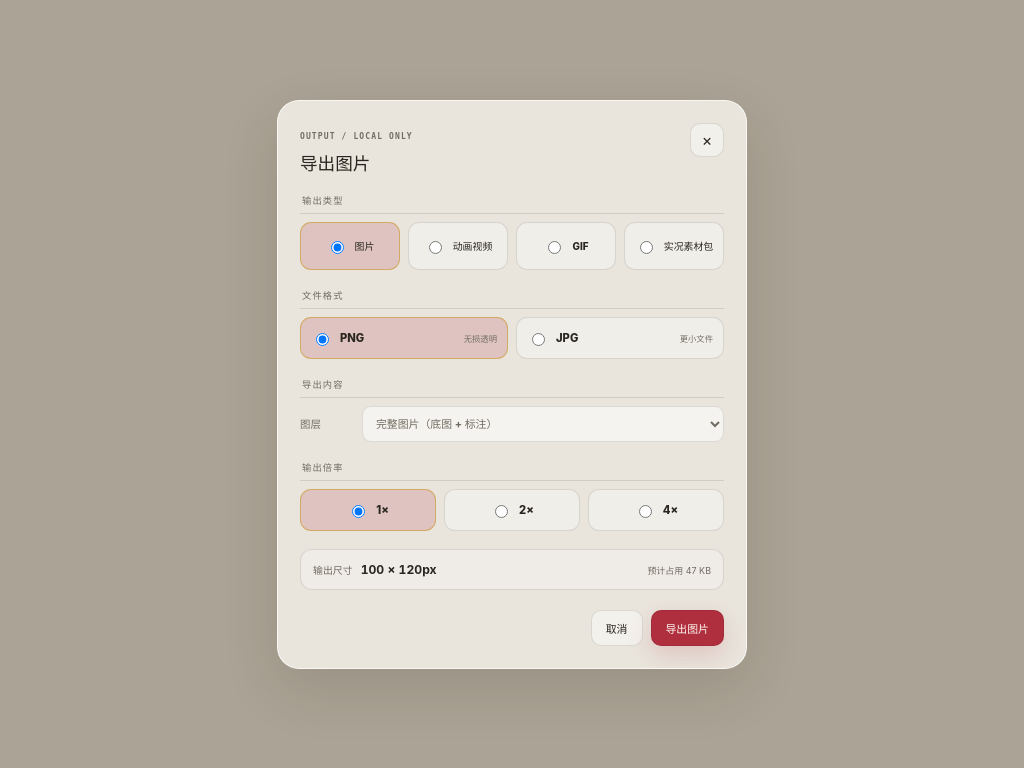
Scenario: ExportDialog export lifecycle › shows the capped motion dimensions instead of the static image scale
Click the radio button labelled "动画视频": (435, 247) [429,240,442,254]
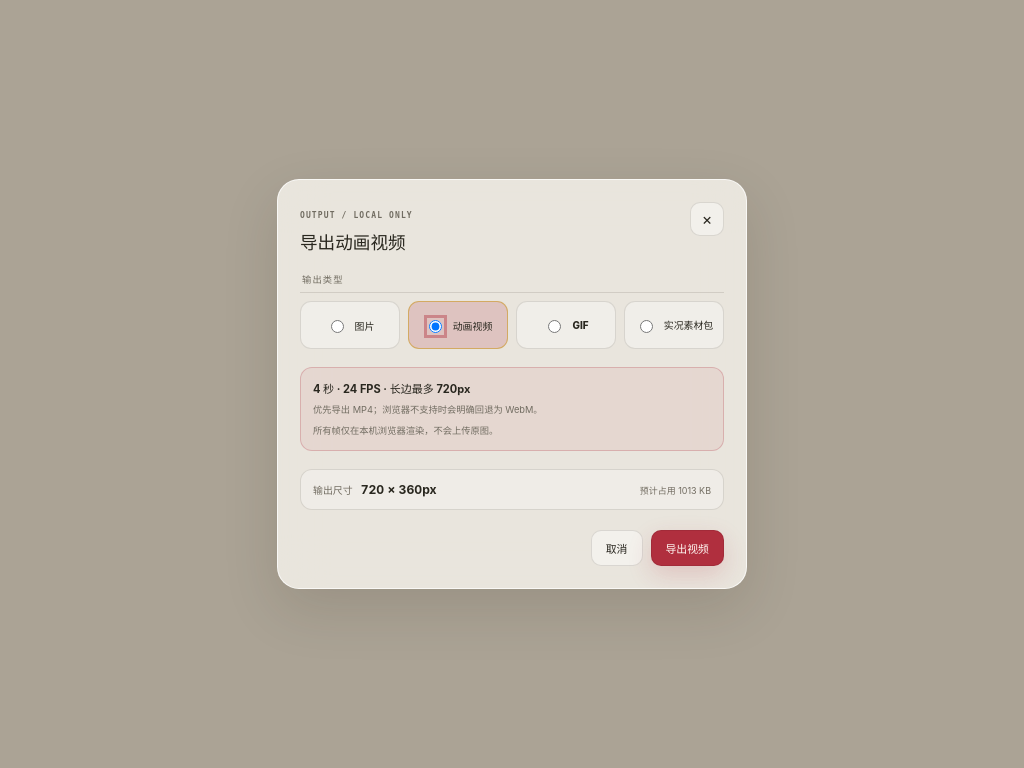
Now the text "720 × 360px" is shown, box [361,482,437,497]
Click the radio button labelled "GIF": (555, 327) [548,320,562,333]
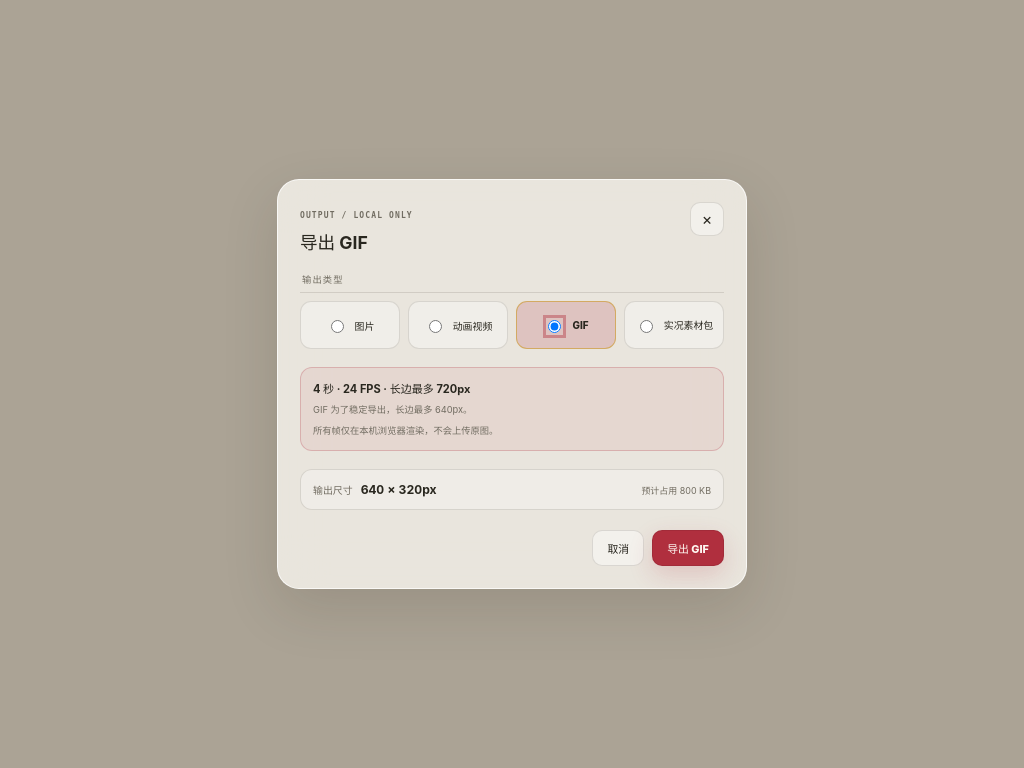
Now the text "640 × 320px" is shown, box [361,482,437,497]
